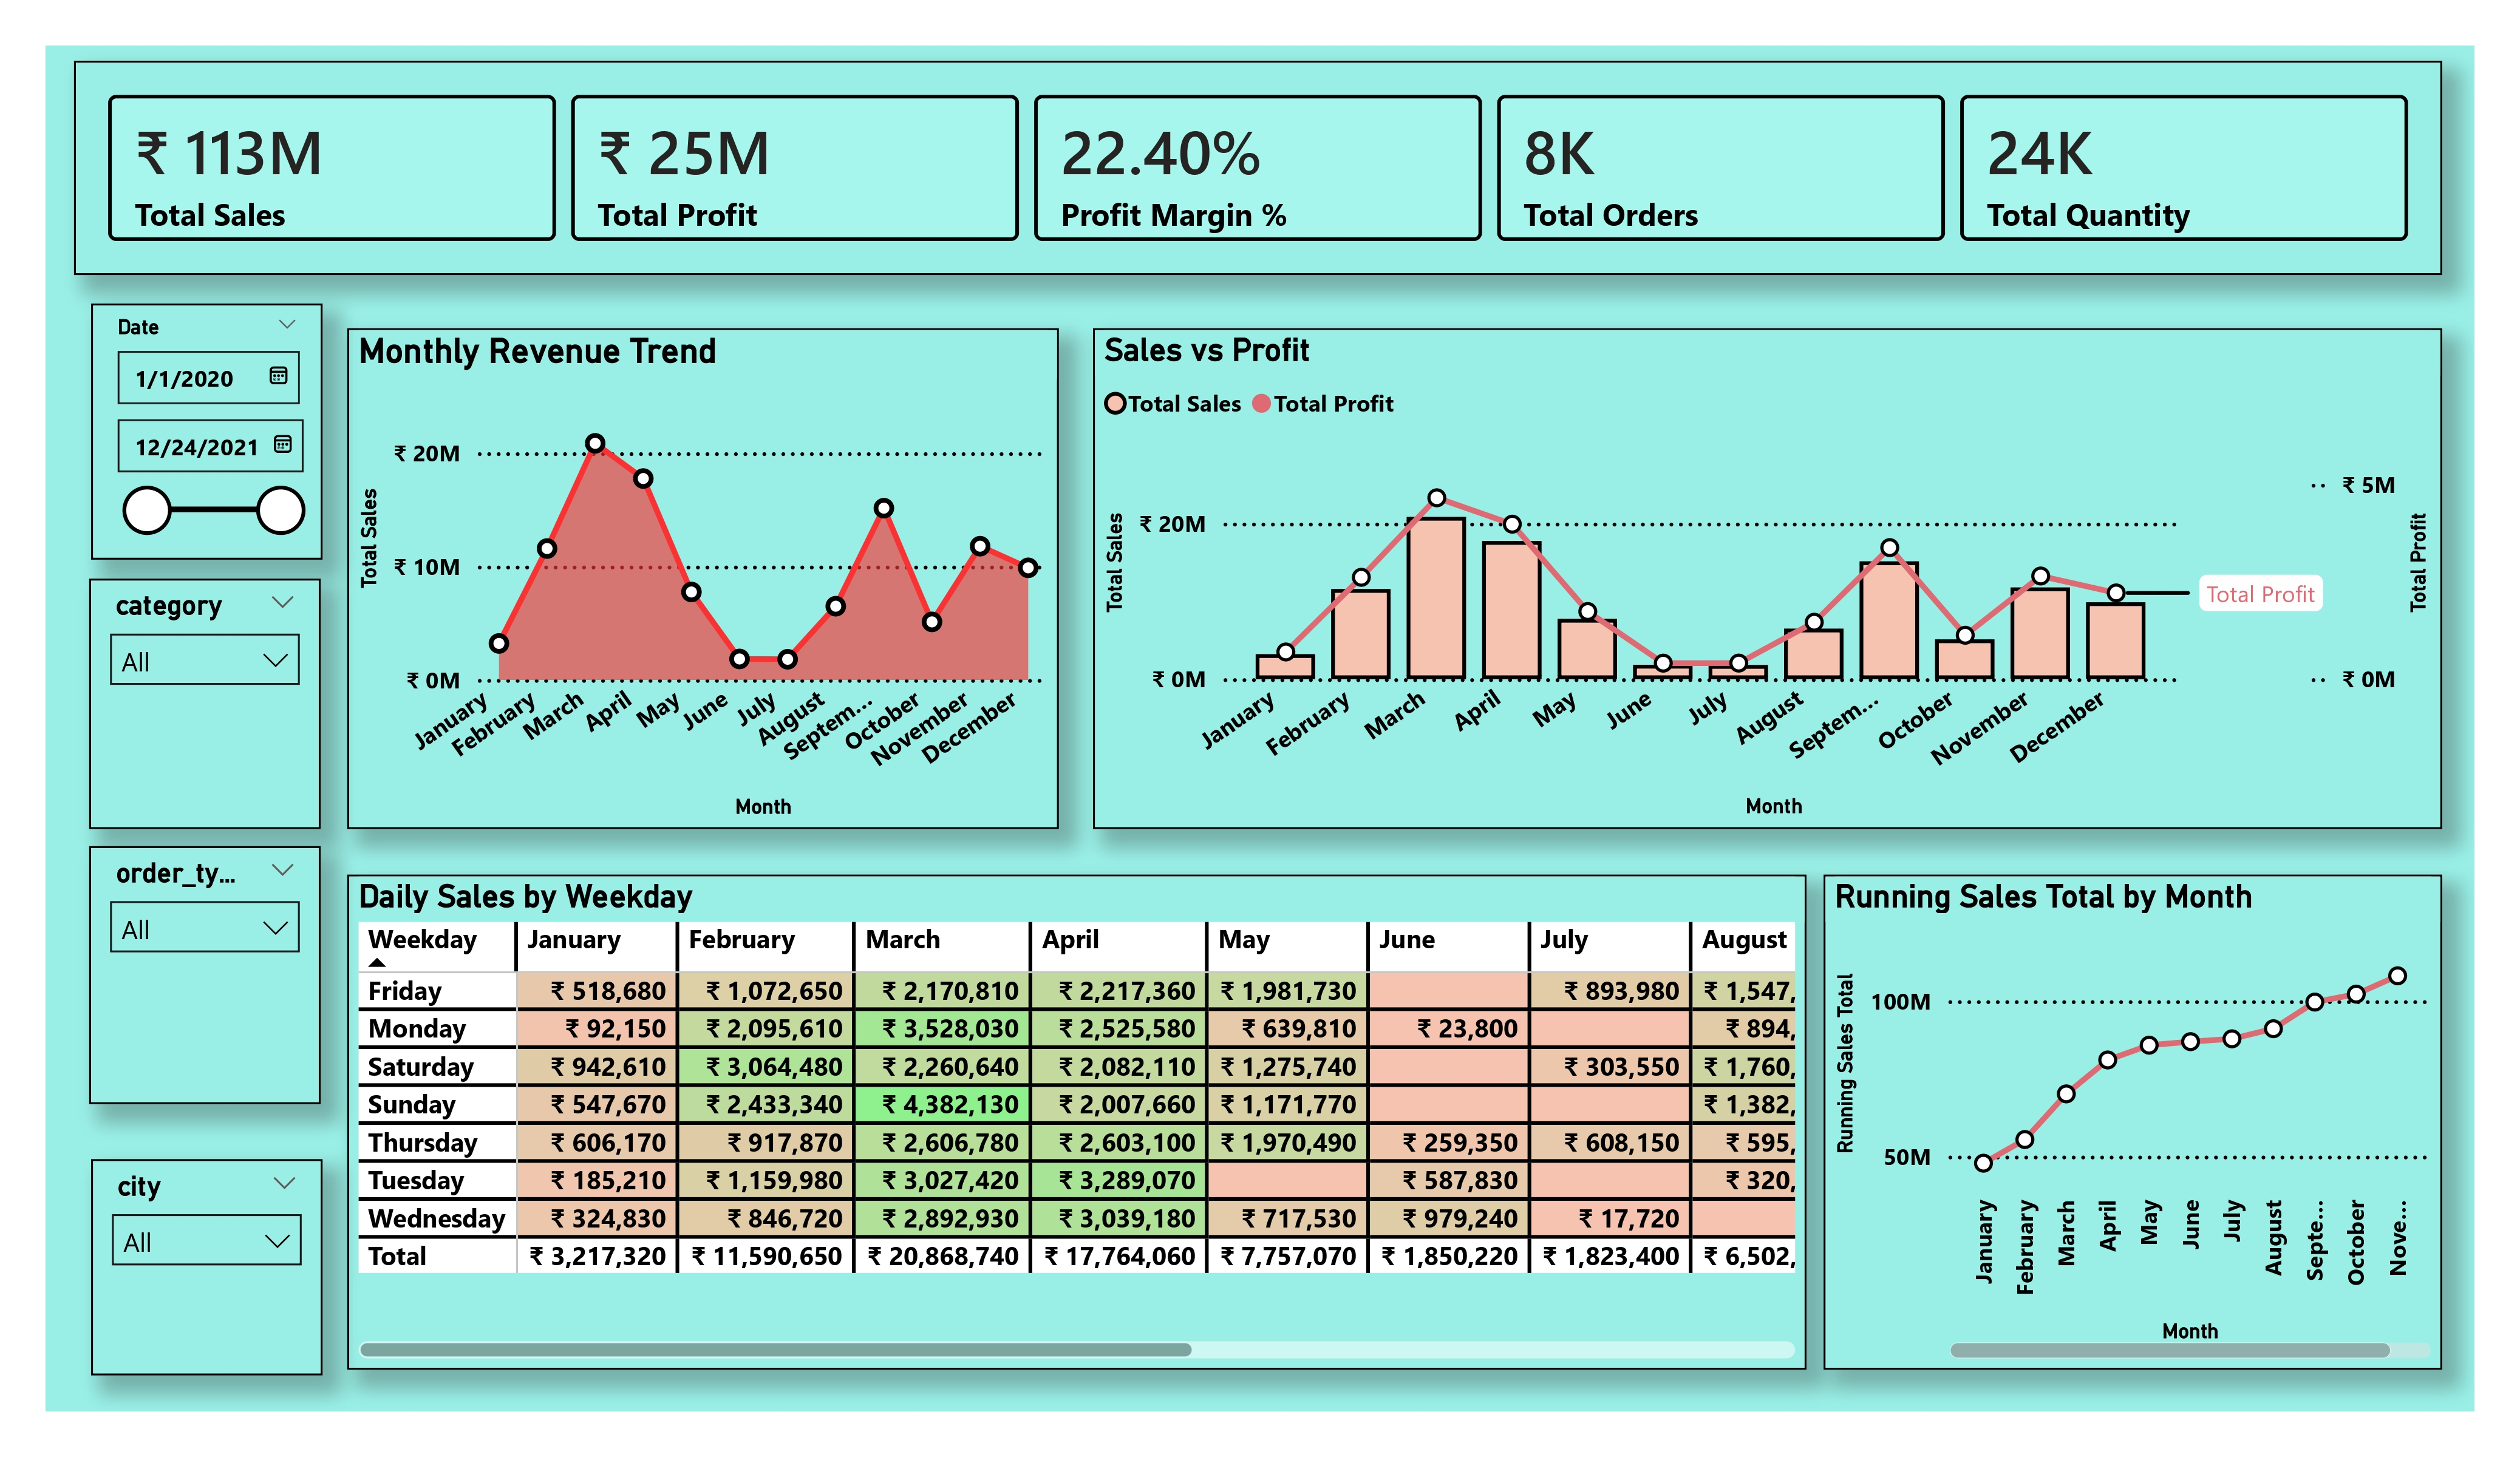

The dashboard page shown, as its layout file describes it:
{"tool":"powerbi","page":{"name":"Sales Analysis","canvas":[1280,720],"ordinal":1},"visuals":[{"type":"cardVisual","fields":{"Data":["Fact_Sales.Total Sales","Fact_Sales.Total Profit","Fact_Sales.Profit Margin %","Fact_Sales.Total Orders","Fact_Sales.Total Quantity"]},"box":[14.5,8.5,1248,112.6],"z":0},{"type":"areaChart","title":"Monthly Revenue Trend","fields":{"Category":["Dim_Date.Month"],"Y":["Fact_Sales.Total Sales"]},"box":[158.6,148.9,375.3,263.9],"z":1},{"type":"lineClusteredColumnComboChart","title":"Sales vs Profit","fields":{"Category":["Dim_Date.Month"],"Y":["Fact_Sales.Total Sales"],"Y2":["Fact_Sales.Total Profit"]},"box":[552,148.9,710.6,263.9],"z":2},{"type":"pivotTable","title":"Daily Sales by Weekday","fields":{"Rows":["Dim_Date.Weekday"],"Columns":["Dim_Date.Month"],"Values":["Fact_Sales.Total Sales"]},"box":[158.6,437,769.9,261.5],"z":3},{"type":"lineChart","fields":{"Category":["Dim_Date.order_date.Variation.Date Hierarchy.Month"],"Y":["Fact_Sales.Running Sales Total"]},"box":[936.9,437,325.6,261.5],"z":4},{"type":"slicer","fields":{"Values":["Dim_Date.order_date"]},"box":[24.2,135.6,122.3,135.6],"z":5},{"type":"slicer","fields":{"Values":["Dim_Product.category"]},"box":[23,280.8,122.3,131.9],"z":6},{"type":"slicer","fields":{"Values":["Fact_Sales.order_type"]},"box":[23,422.5,122.3,135.6],"z":7},{"type":"slicer","fields":{"Values":["Dim_Customer.city"]},"box":[24.2,587.1,122.3,113.8],"z":8}]}

Visuals, with their boxes on the page's 1280x720 design canvas (x1, y1, x2, y2). These are canvas units, not pixel positions in the 2520x1457 screenshot, which may show the page scaled, cropped or inside an application window:
cardVisual - Fact_Sales.Total Sales x Fact_Sales.Total Profit: (x1=14, y1=8, x2=1262, y2=121)
"Monthly Revenue Trend" areaChart: (x1=159, y1=149, x2=534, y2=413)
"Sales vs Profit" lineClusteredColumnComboChart: (x1=552, y1=149, x2=1263, y2=413)
"Daily Sales by Weekday" pivotTable: (x1=159, y1=437, x2=928, y2=698)
lineChart - Dim_Date.order_date.Variation.Date Hierarchy.Month x Fact_Sales.Running Sales Total: (x1=937, y1=437, x2=1262, y2=698)
slicer - Dim_Date.order_date: (x1=24, y1=136, x2=146, y2=271)
slicer - Dim_Product.category: (x1=23, y1=281, x2=145, y2=413)
slicer - Fact_Sales.order_type: (x1=23, y1=422, x2=145, y2=558)
slicer - Dim_Customer.city: (x1=24, y1=587, x2=146, y2=701)
